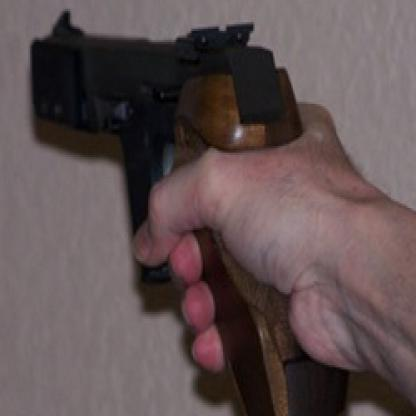gun: (30, 6, 348, 414)
